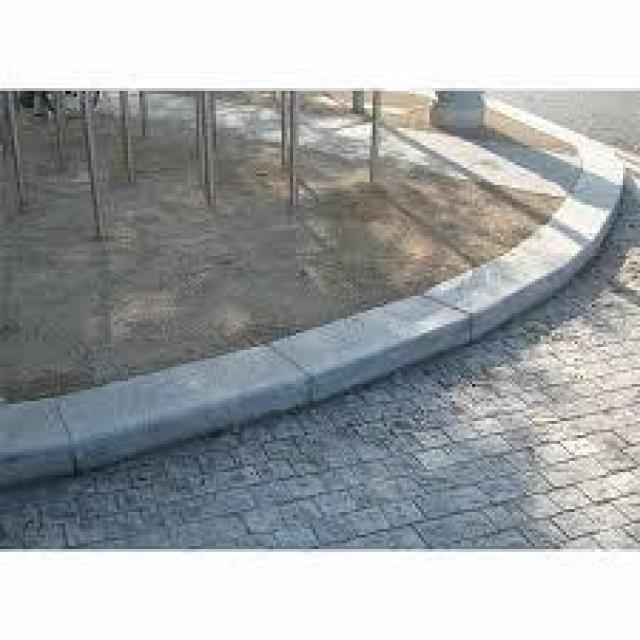curb: (1, 256, 561, 489), (516, 234, 603, 302), (568, 148, 628, 233)
